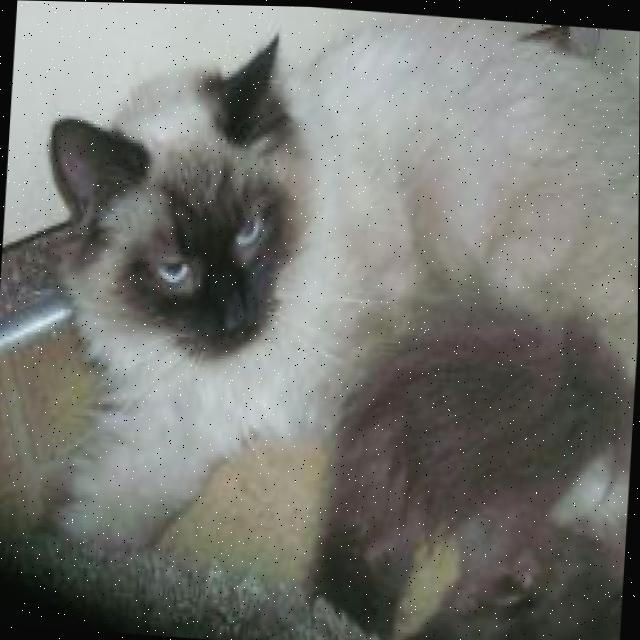Birman: (17, 0, 640, 640)
